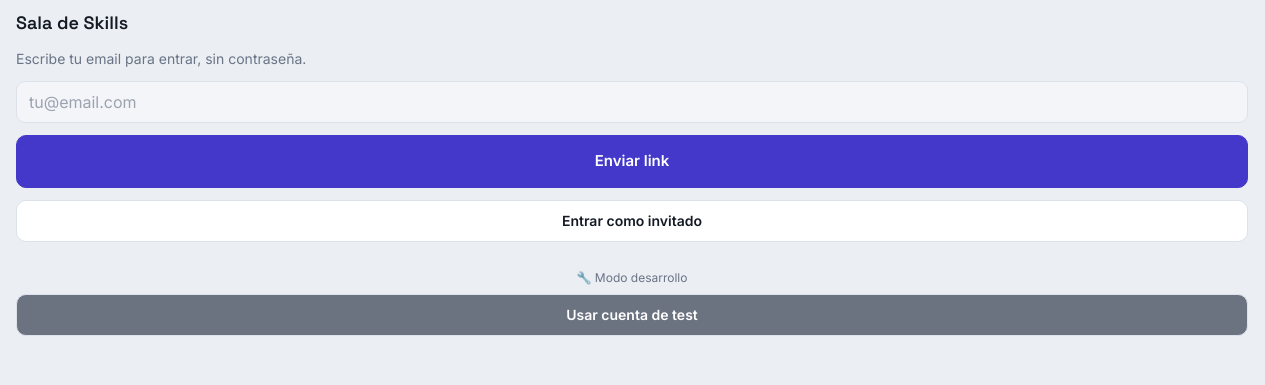
Scenario: Login › shows the error message when the request fails
In the field with placeholder "tu@email.com": (632, 102) top-left (16, 81), bottom-right (1248, 123), type "me@example.com"
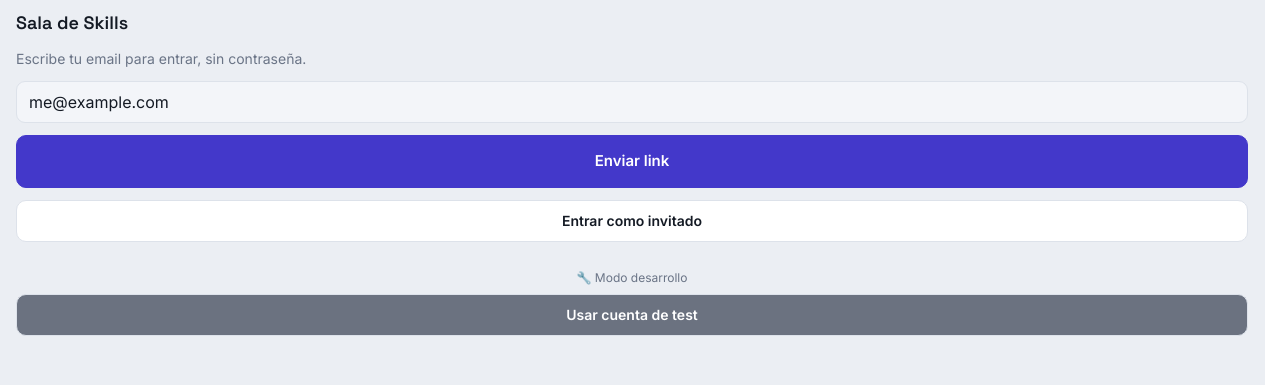
Click the button "Enviar link": click(632, 161) top-left (16, 135), bottom-right (1248, 188)
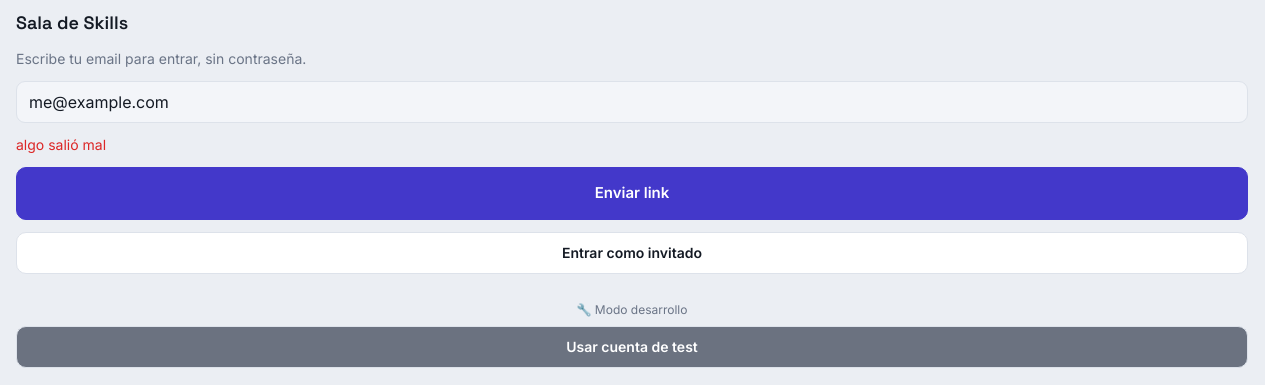
expect the text "algo salió mal" is shown: met, box top-left (16, 136), bottom-right (106, 153)
